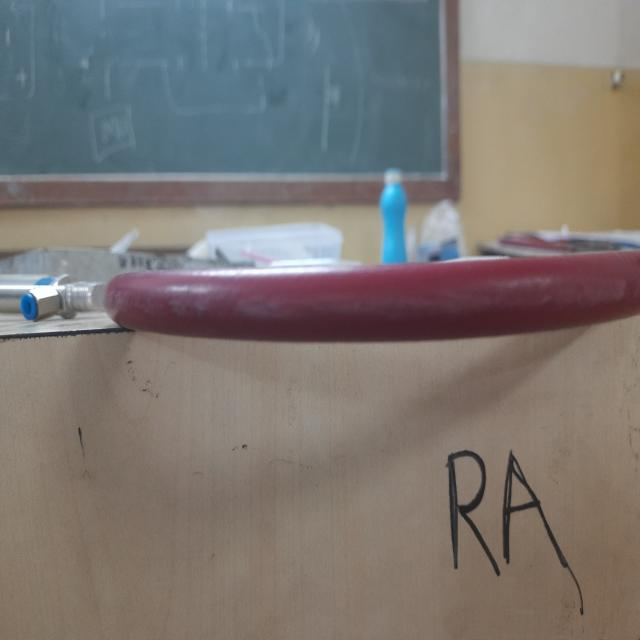daire: (119, 258, 640, 338)
